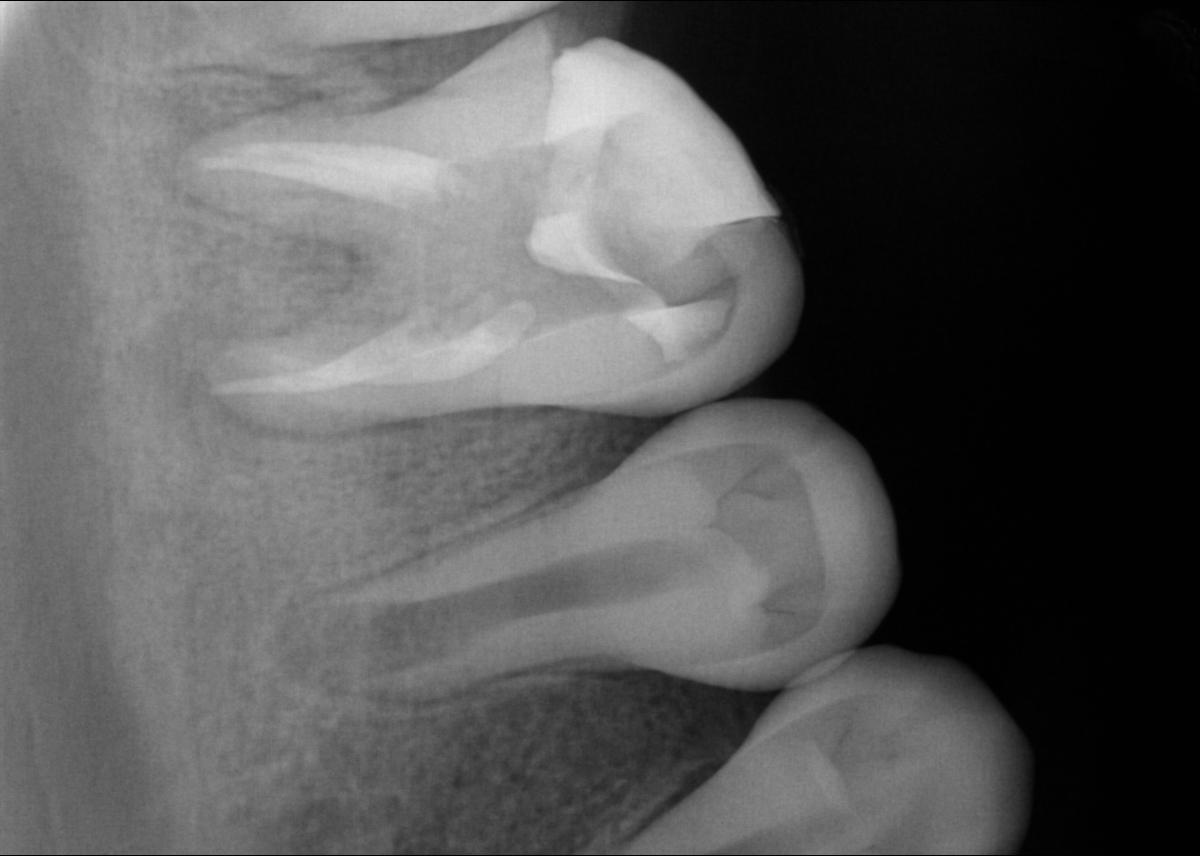Furcation Involvement: (116, 293, 428, 473), (147, 75, 334, 219)
